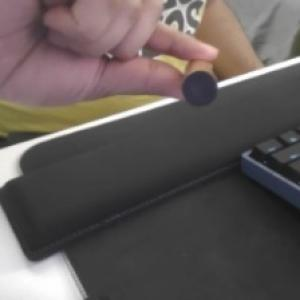Golden-E-Ciggirate: (175, 59, 221, 110)
